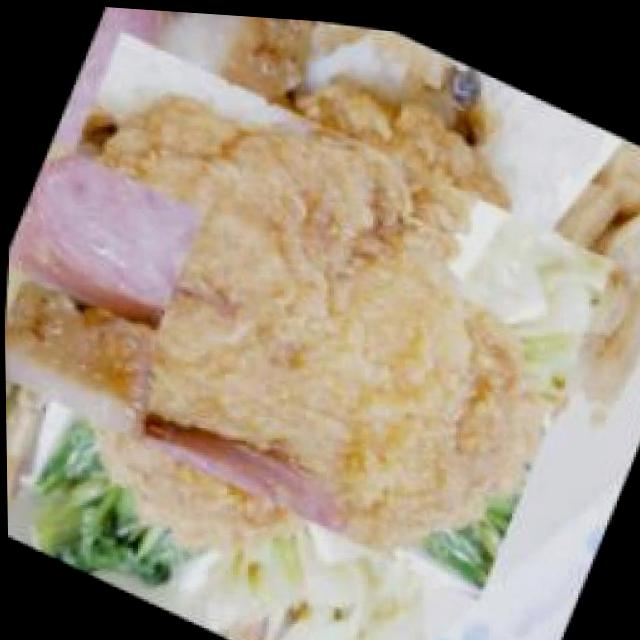chinese_sausage: (1, 120, 199, 345)
fried_chicken: (0, 0, 605, 631)
